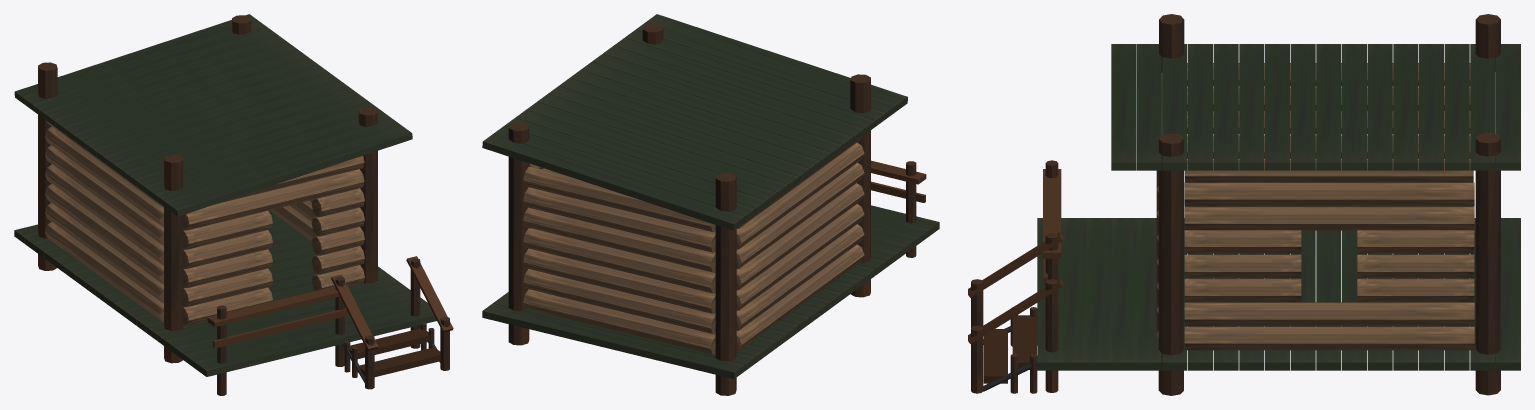
The model's file is cabin.glb.
The picture shows the model from 3 angles, left to right: view 1: azimuth 30°, elevation 25°; view 2: azimuth 150°, elevation 25°; view 3: azimuth 270°, elevation 25°; orthographic projection. The views are drawn at different scales.
Visible parts, largest first — view 1: Object_2; view 2: Object_2; view 3: Object_2.
Boxes of the visible parts, x1,y1,x2,y2 form: Object_2: (14, 14, 453, 395); Object_2: (482, 14, 939, 395); Object_2: (968, 14, 1520, 395).
Size of the model in its own units: 13.56 by 11.07 by 21.91.
1 material, 1 textured.
